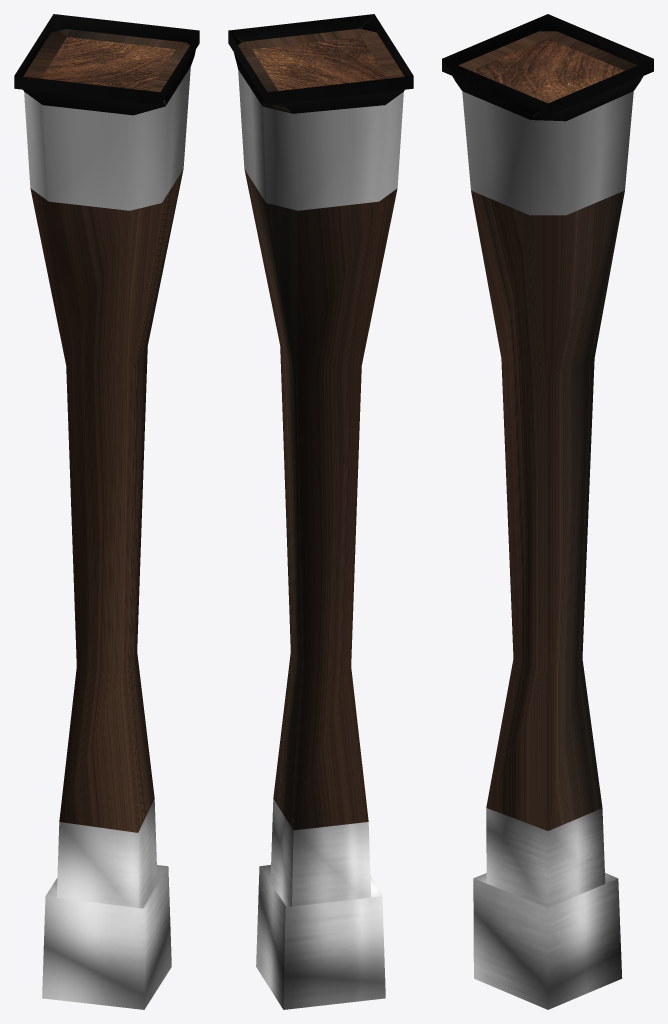
The model's file is TORCH.fbx.
The picture shows the model from 3 angles, left to right: view 1: azimuth 30°, elevation 25°; view 2: azimuth 150°, elevation 25°; view 3: azimuth 270°, elevation 25°; orthographic projection.
Parts seen in each view (by area): view 1: Cylinder; view 2: Cylinder; view 3: Cylinder.
Boxes of the visible parts, left/top/right/bottom form: Cylinder: left=14, top=14, right=199, bottom=1009; Cylinder: left=228, top=14, right=413, bottom=1009; Cylinder: left=442, top=14, right=653, bottom=1009.
Bounding box in the file's own units: 200 × 959 × 200.
